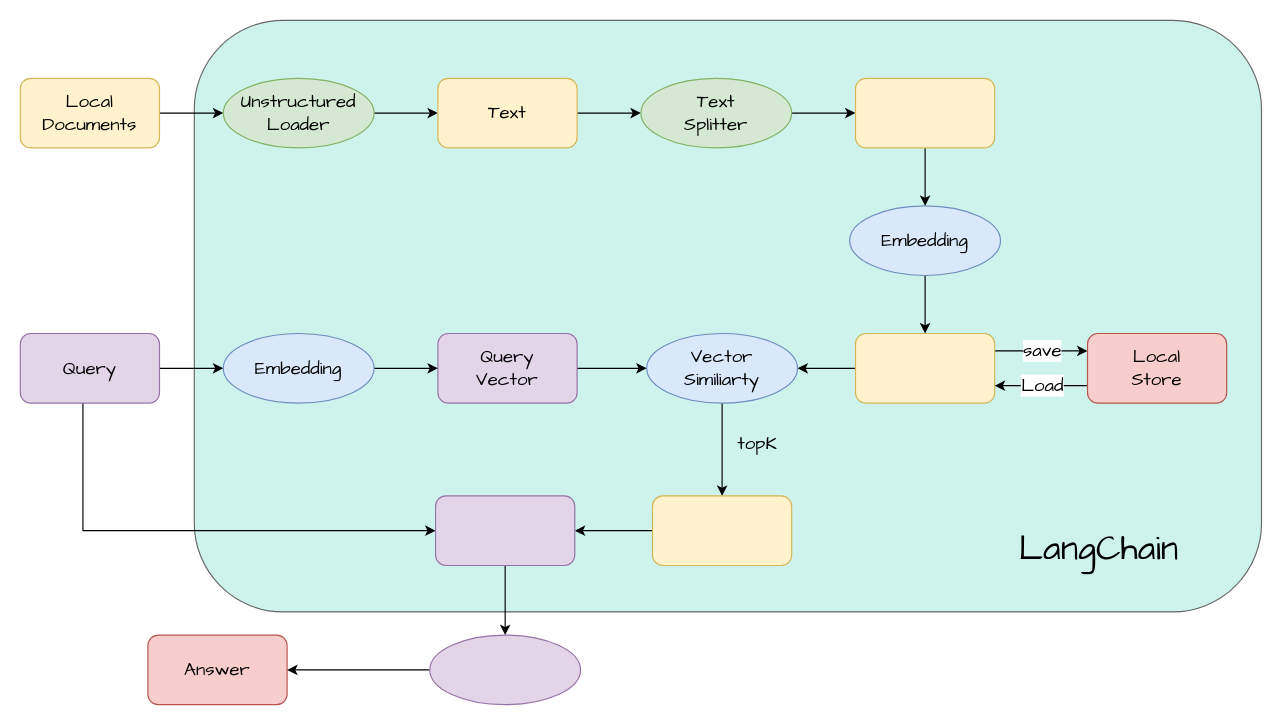
The diagram is 1282 pixels wide and 725 high, and some of its shapes have lost their labels. Here are the shapes that lost their labels. From the top down, the centre of each, then its label:
At point 924,112: "Text Chunks".
At point 924,367: "Vector".
At point 504,530: "Prompt".
At point 721,530: "Related Text Chunks".
At point 505,669: "ChatGLM3".
